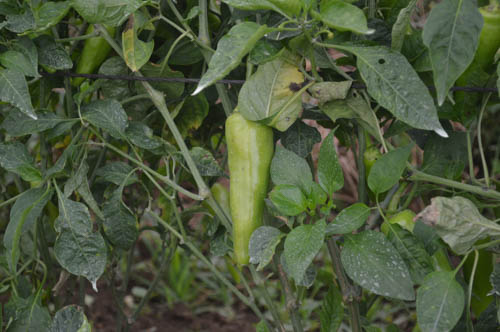ChiliPepper: (224, 115, 274, 270), (385, 214, 456, 273), (69, 21, 115, 83)
